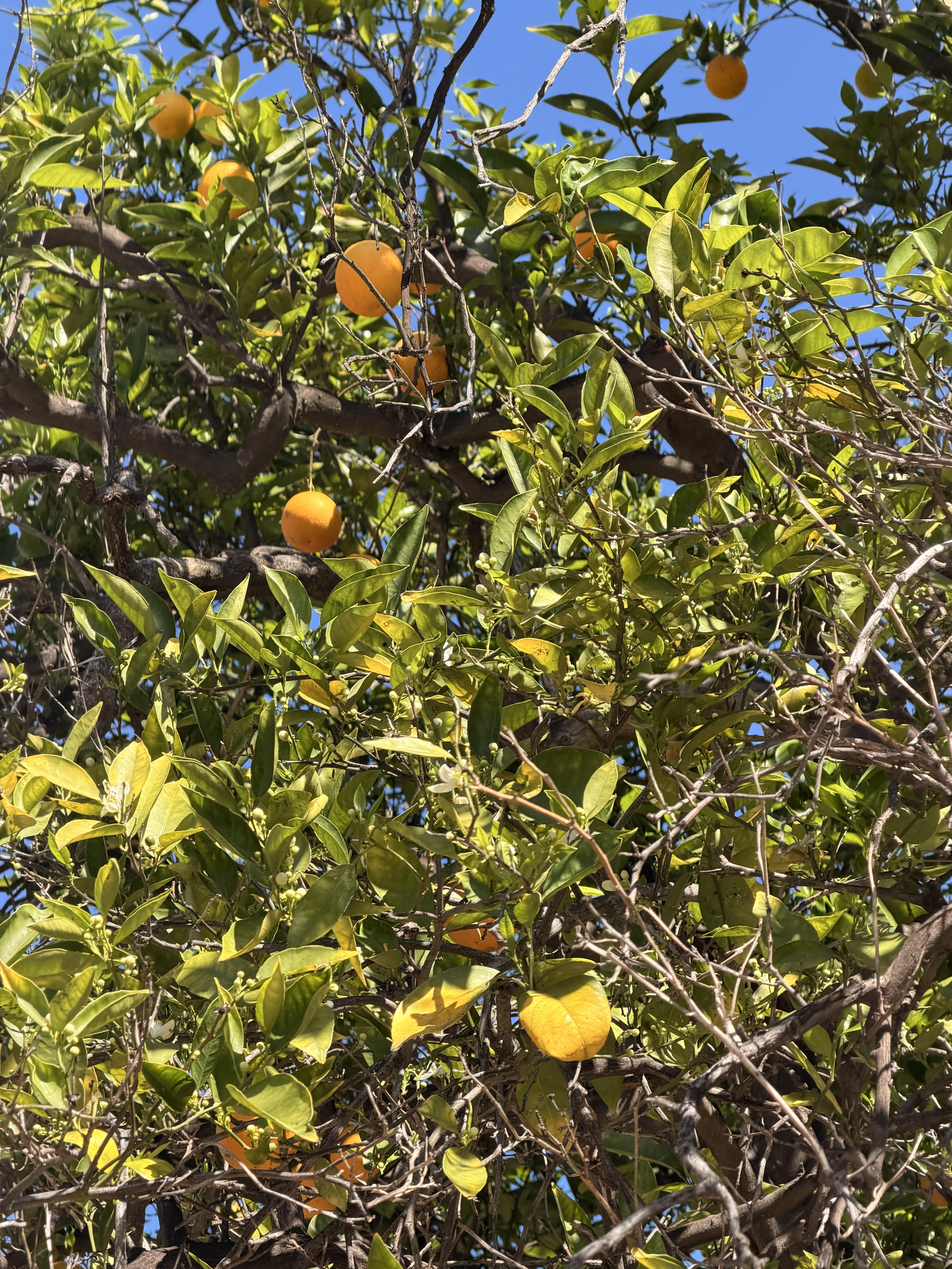orange: (442, 881, 518, 952), (335, 240, 402, 317), (216, 1112, 302, 1170), (390, 331, 449, 396), (282, 490, 341, 553), (197, 161, 257, 220), (331, 1127, 385, 1182), (571, 210, 619, 270), (293, 1163, 336, 1221), (147, 94, 194, 138), (705, 54, 748, 99), (855, 61, 884, 98)
